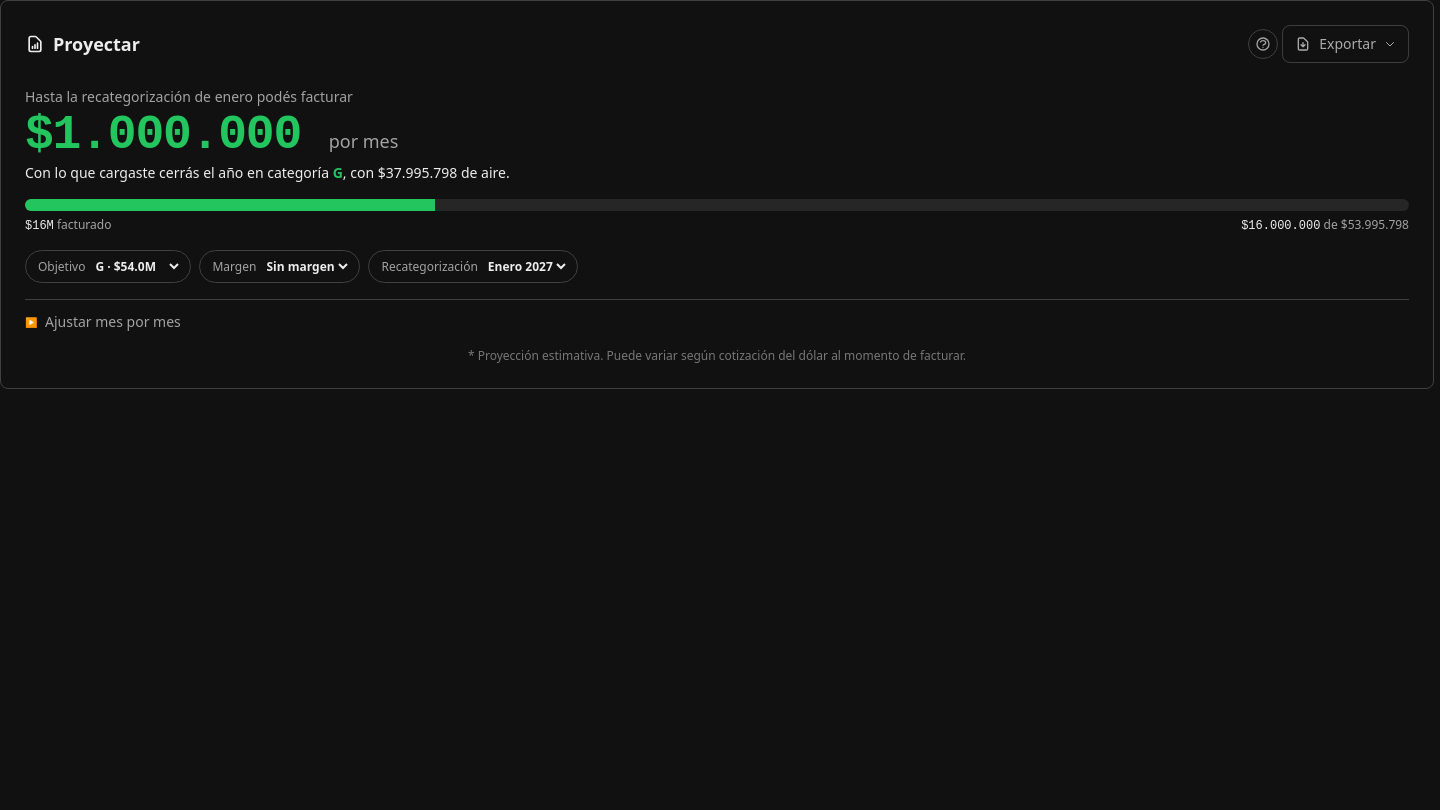
it: ProjectionPanel · dónde termina la ventana › el desglose cierra con el total y cuánto sobra para el tope
This screenshot has width=1440, height=810.
Step 1. Click the heading "▶ Ajustar mes por mes" → (103, 322), box [25, 312, 181, 331]
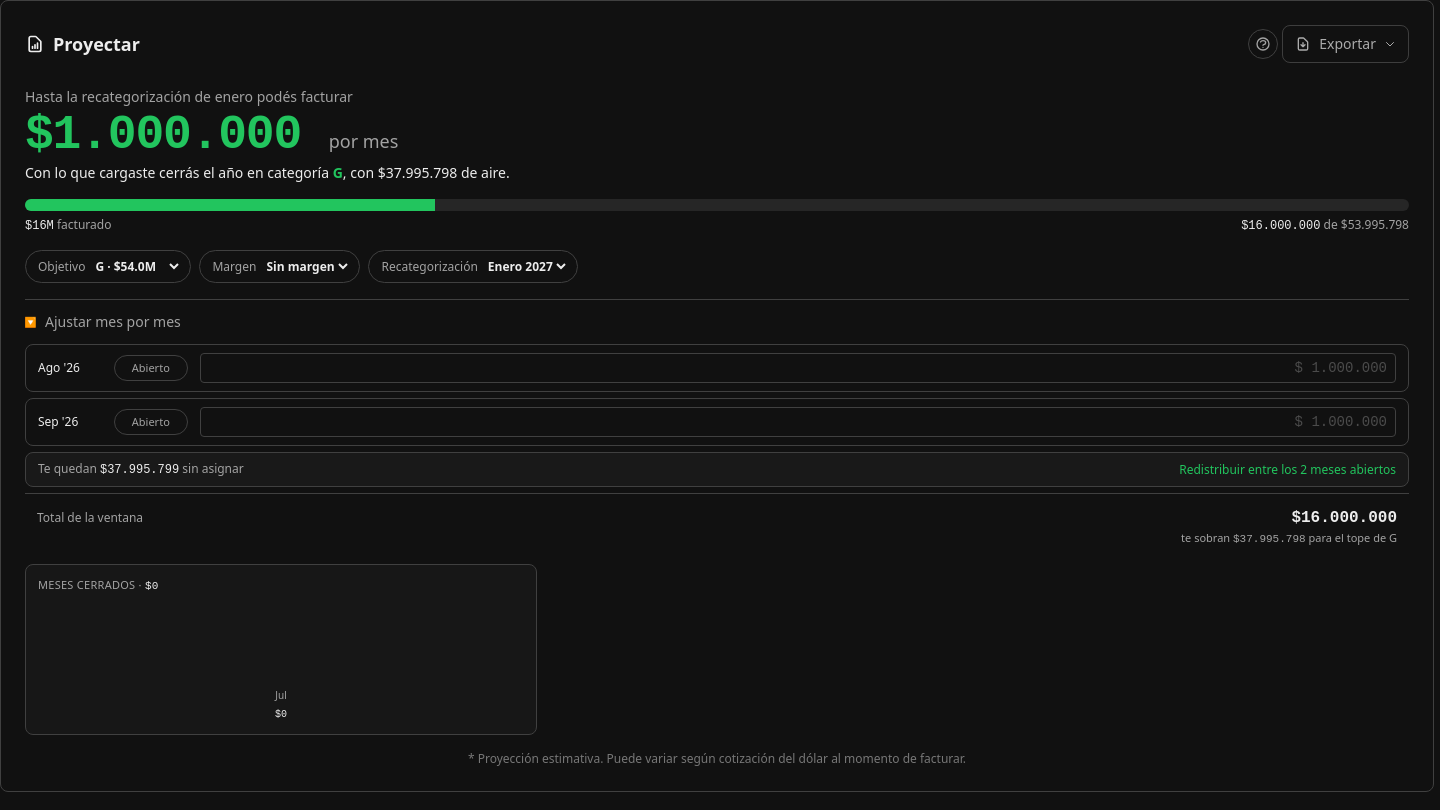
Check: the element with test id "total-desglose" shows "16.000.000", box [1301, 509, 1397, 527]
Check: the element with test id "total-desglose" shows "37.995.798", box [1240, 533, 1306, 545]
Check: the element with test id "total-desglose" shows "te sobran", box [1181, 530, 1233, 545]
